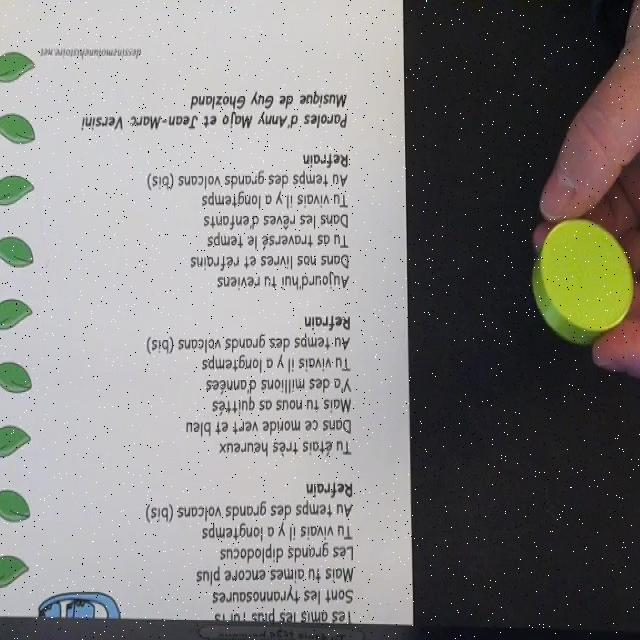round: (532, 219, 634, 347)
